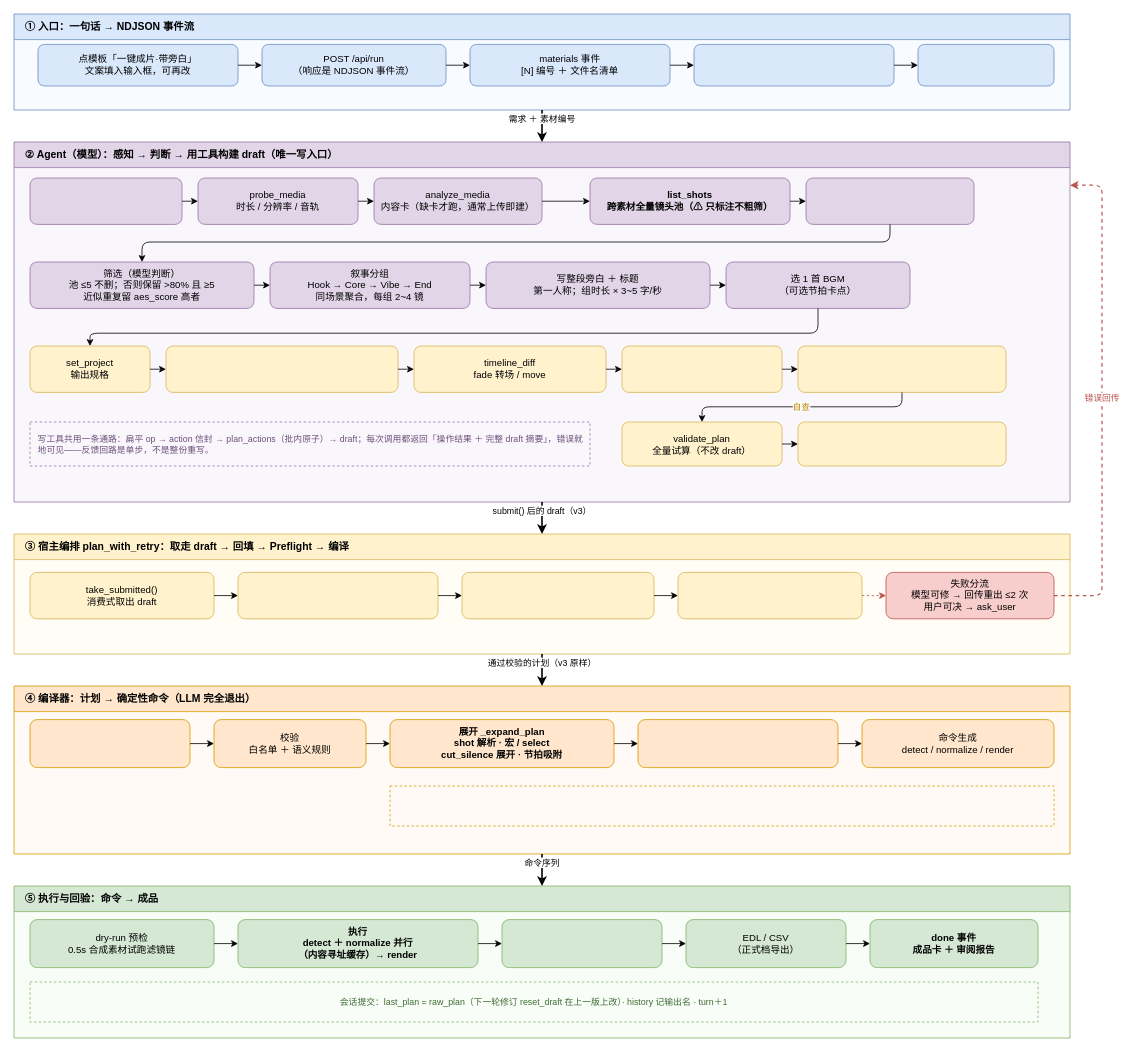
The diagram is 1134 pixels wide and 1052 high, and some of its shapes have lost their labels. Each missing label, with the centre of its shape:
"_autofill_probe 视频片段用真实探针覆盖" goes at (x=337, y=595).
"audio_diff BGM 块" goes at (x=701, y=368).
"clip_diff（一次批量） insert [{shot:N}, …] 宿主从内容卡取精确边界" goes at (x=281, y=368).
"ffprobe 回验 实际时长 vs 预期" goes at (x=581, y=943).
"list_materials 编号清单 [N]" goes at (x=105, y=200).
"list_music 曲库候选 ＋ 情绪标签" goes at (x=889, y=200).
"plan 事件 → compile_plan （此后 LLM 不再参与）" goes at (x=769, y=595).
"Preflight 素材匹配 warn 提示 / block 反问" goes at (x=557, y=595).
"R11 双存：raw_plan = 提交语义快照（v3，供修订底稿 / plan_diff）；展开版只服务本次渲染" goes at (x=721, y=805).
"set_narration / set_captions 写 _narration 组（互斥）" goes at (x=901, y=368).
"submit() 提交 draft（v3）" goes at (x=901, y=443).
"会话恢复 / 闲聊闸门 / 意图分类 （多轮才生效；不确定一律放行）" goes at (x=793, y=65).
"方言降级 v3 → 内部 v2" goes at (x=109, y=743).
"时间轴数学 _derive → 文案铺轴 _apply_captions 时长 / 起点 / 总长 / overlay 绝对时间" goes at (x=737, y=743).
"构造 brief （编号素材清单）" goes at (x=985, y=65).
